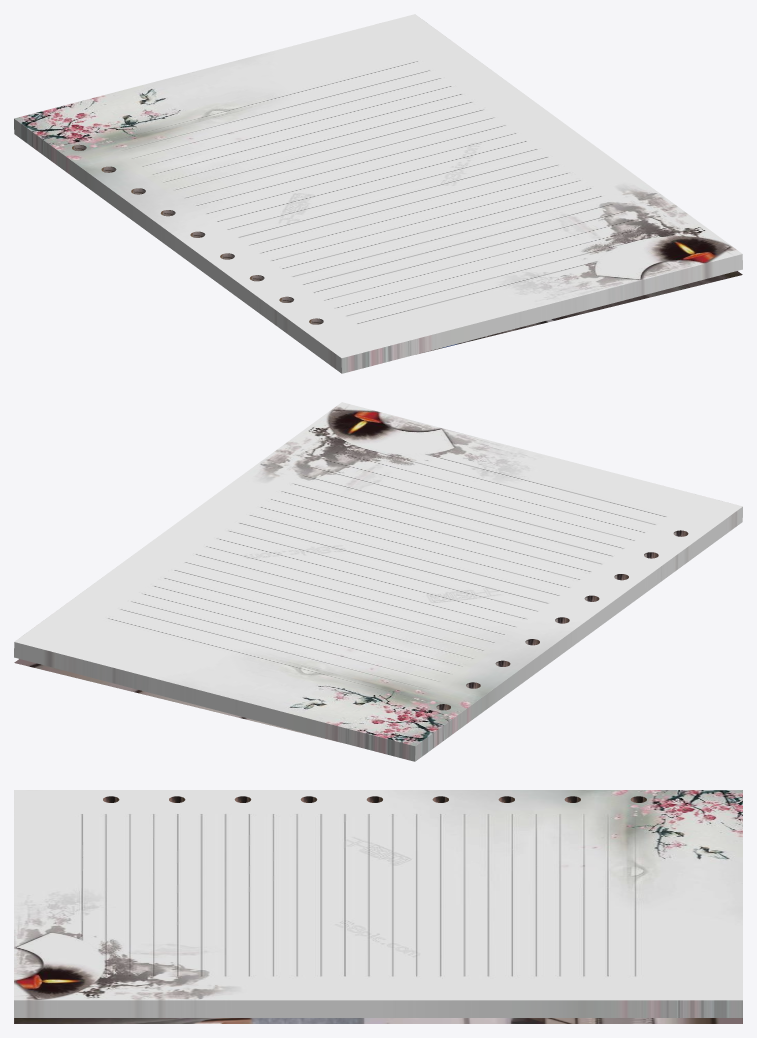
3 renders of one model, top to bottom at view 1: azimuth 30°, elevation 25°; view 2: azimuth 150°, elevation 25°; view 3: azimuth 270°, elevation 25°, orthographic. The views are drawn at different scales.
Visible parts, largest first — view 1: Plane, Plane.001; view 2: Plane, Plane.001; view 3: Plane, Plane.001.
Boxes of the visible parts, <box> form: Plane: <box>14,14,742,373</box>; Plane.001: <box>416,271,742,354</box>; Plane: <box>14,402,742,761</box>; Plane.001: <box>14,659,340,742</box>; Plane: <box>14,790,742,1017</box>; Plane.001: <box>14,1018,742,1023</box>.
Size of the model in its own units: 2 by 0.1054 by 2.83.
Materials: 2 (2 with a texture image).
